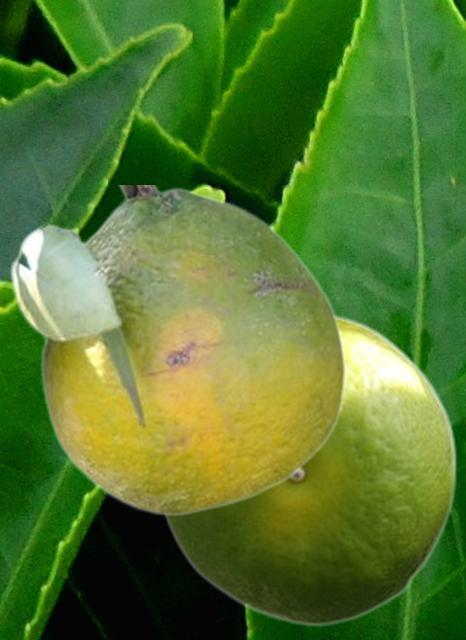dalandan: (8, 185, 346, 515), (163, 312, 456, 626)
